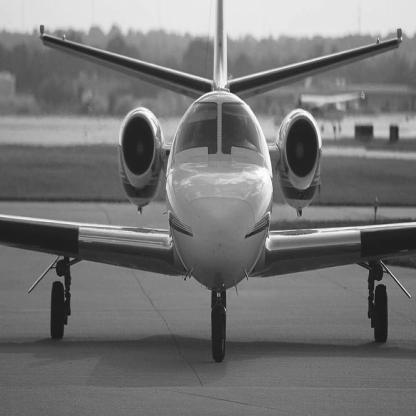CIV_Plane: (1, 3, 414, 393)
